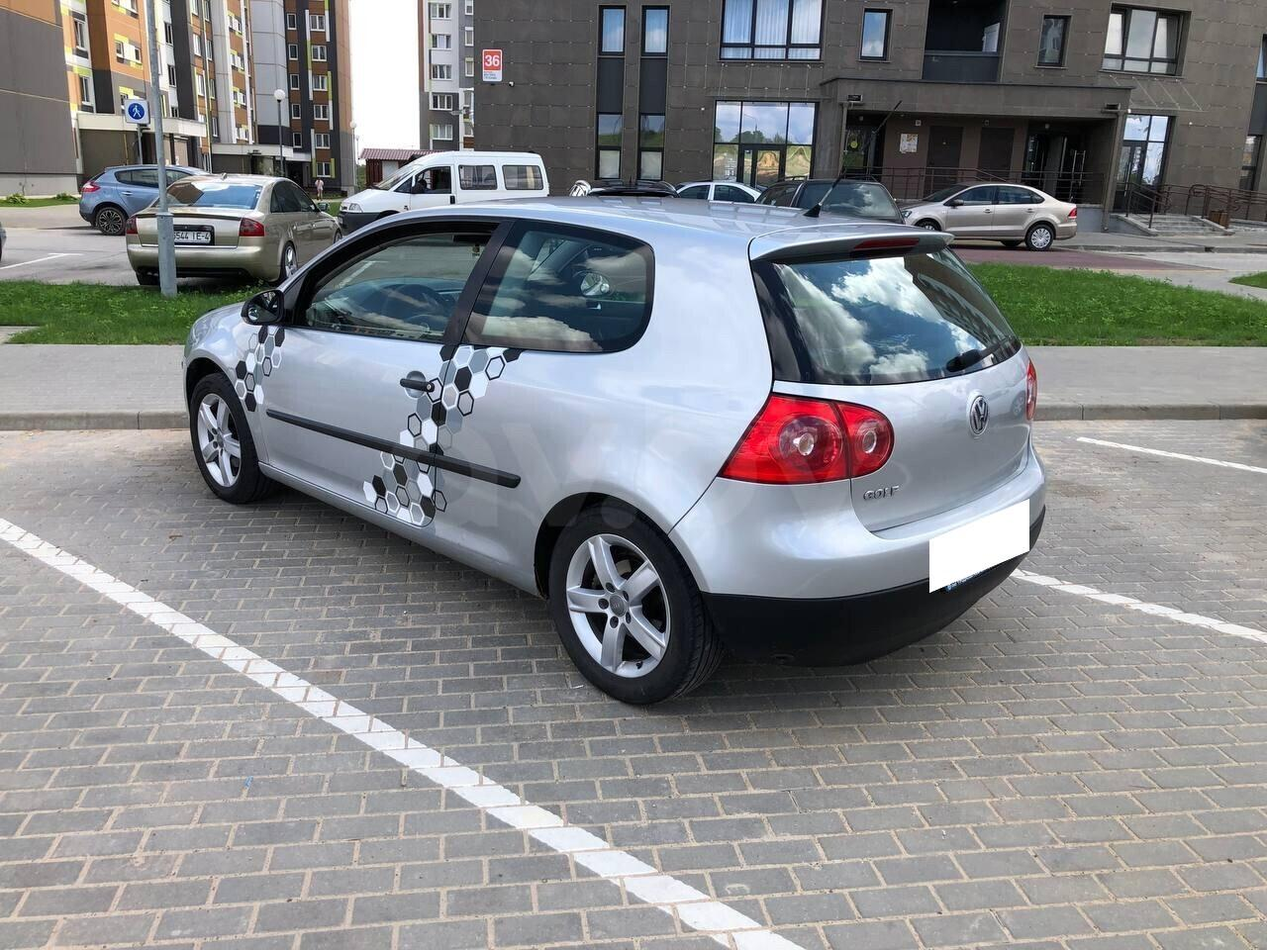Golf_2003-2009: (183, 190, 1045, 710)
